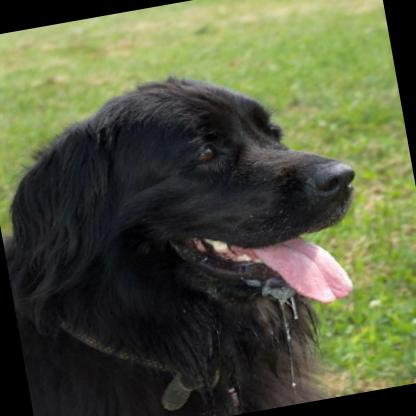Newfoundland: (0, 47, 390, 416)
